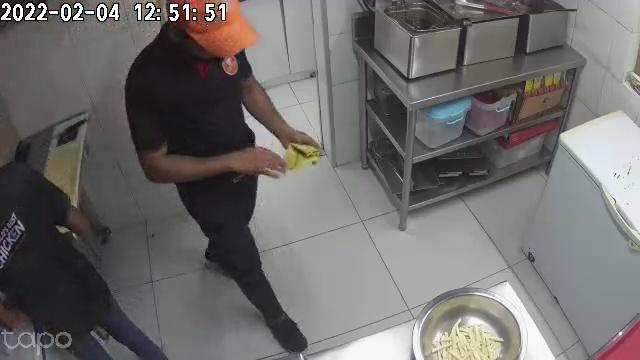no_gloves: (204, 148, 287, 181)
